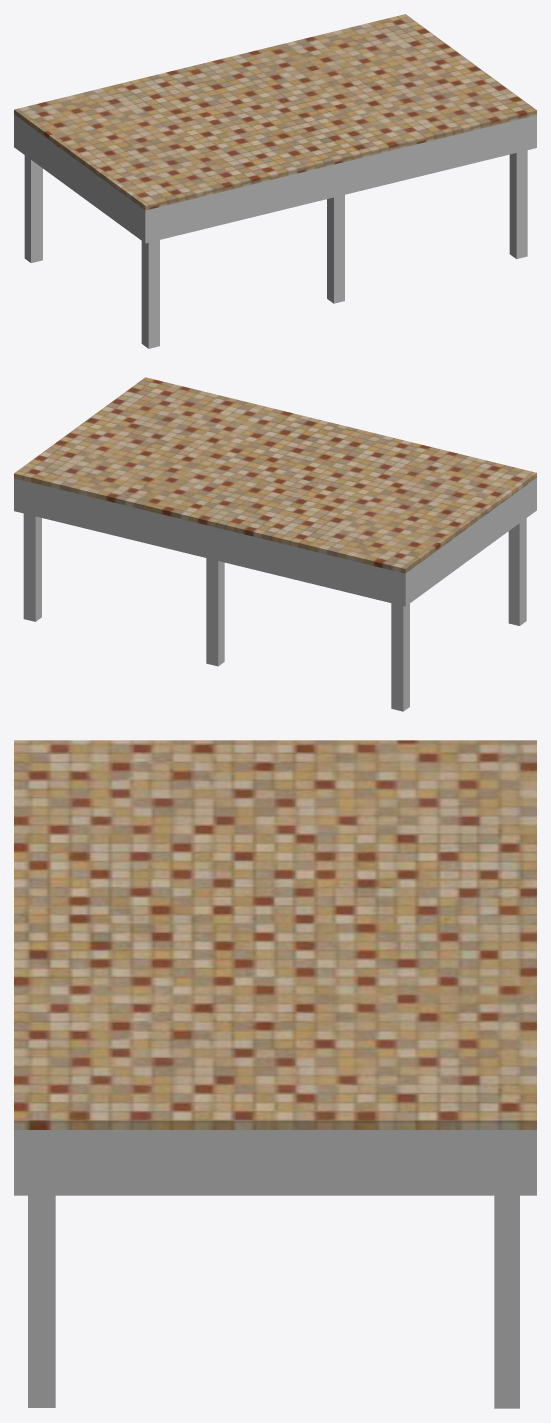
File: parts_base_11d.fbx
3 renders of one model, top to bottom at view 1: azimuth 30°, elevation 25°; view 2: azimuth 150°, elevation 25°; view 3: azimuth 270°, elevation 25°, orthographic. The views are drawn at different scales.
Parts seen in each view (by area): view 1: parts_base_11d; view 2: parts_base_11d; view 3: parts_base_11d.
Part boxes in pixels (x1,y1,x2,y2): parts_base_11d: (14,14,536,348); parts_base_11d: (14,377,536,711); parts_base_11d: (14,740,536,1408).
Size of the model in its own units: 16.1 by 5.79 by 9.36.
